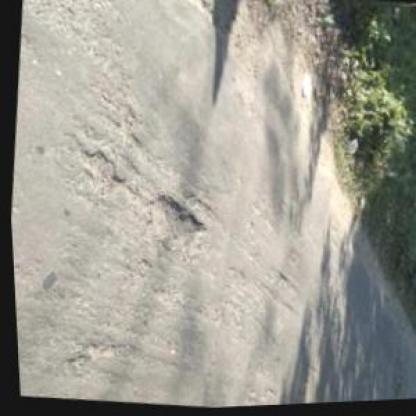pothole: (140, 190, 208, 254), (74, 146, 124, 200)
